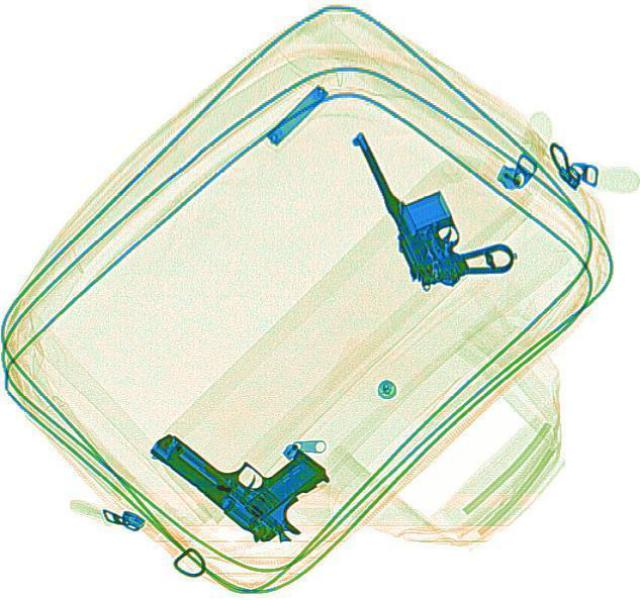Gun: (141, 382, 349, 555), (347, 102, 517, 297)
